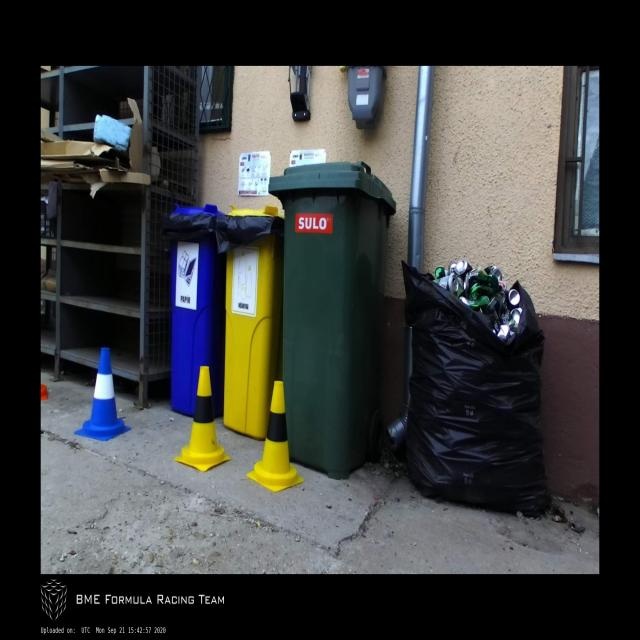blue_cone: (75, 349, 131, 441)
yellow_cone: (248, 382, 304, 492), (174, 366, 232, 472)
